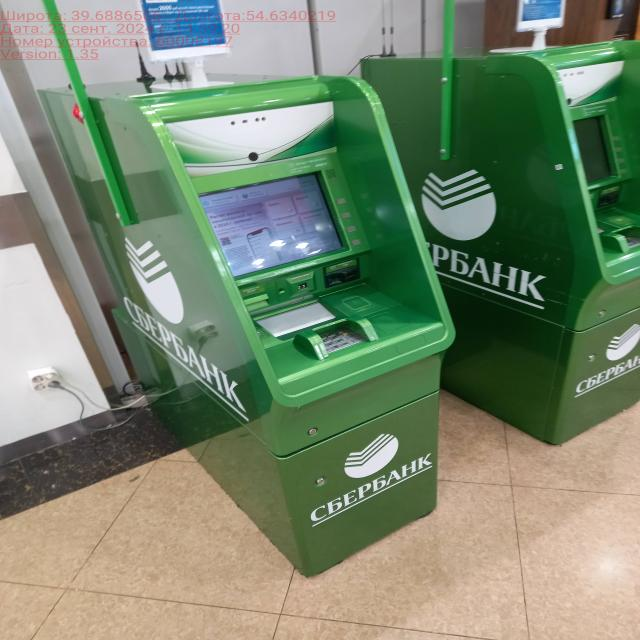bank: (33, 70, 458, 580), (356, 38, 640, 446)
